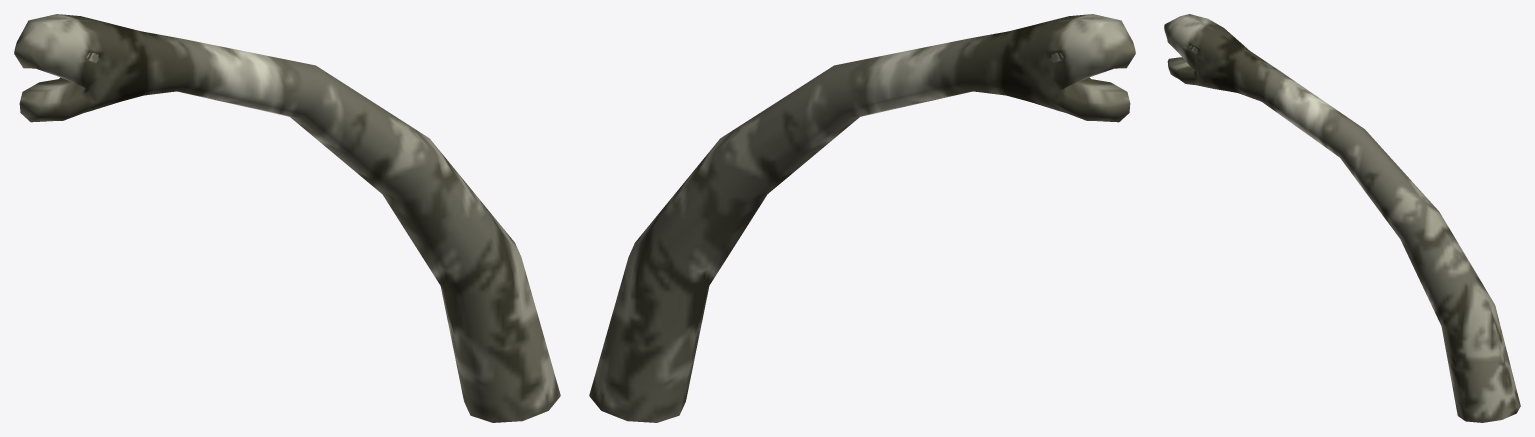
Rendered from Medallion01.fbx.
3 views of the same model, side by side, from view 1: azimuth 30°, elevation 25°; view 2: azimuth 150°, elevation 25°; view 3: azimuth 330°, elevation 25° (orthographic). The views are drawn at different scales.
Visible parts, largest first — view 1: Medalion01; view 2: Medalion01; view 3: Medalion01.
Part boxes in pixels (x1=…): Medalion01: x1=14, y1=14, x2=560, y2=422; Medalion01: x1=589, y1=14, x2=1135, y2=422; Medalion01: x1=1164, y1=14, x2=1520, y2=422.
Bounding box in the file's own units: 0.9949 × 0.8726 × 0.1486.
